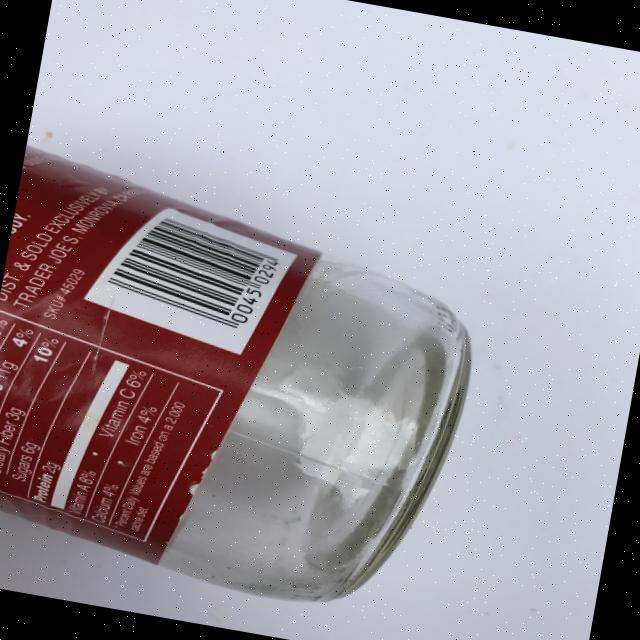glass: (0, 143, 497, 626)
